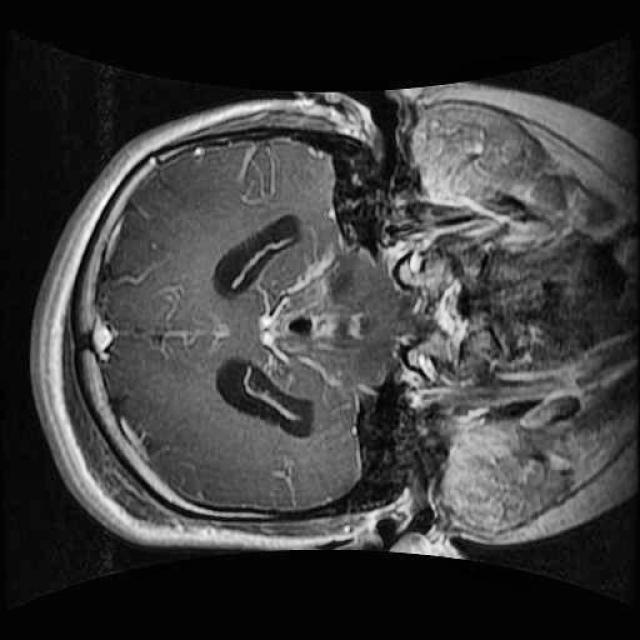Tumor: (240, 226, 372, 406)
